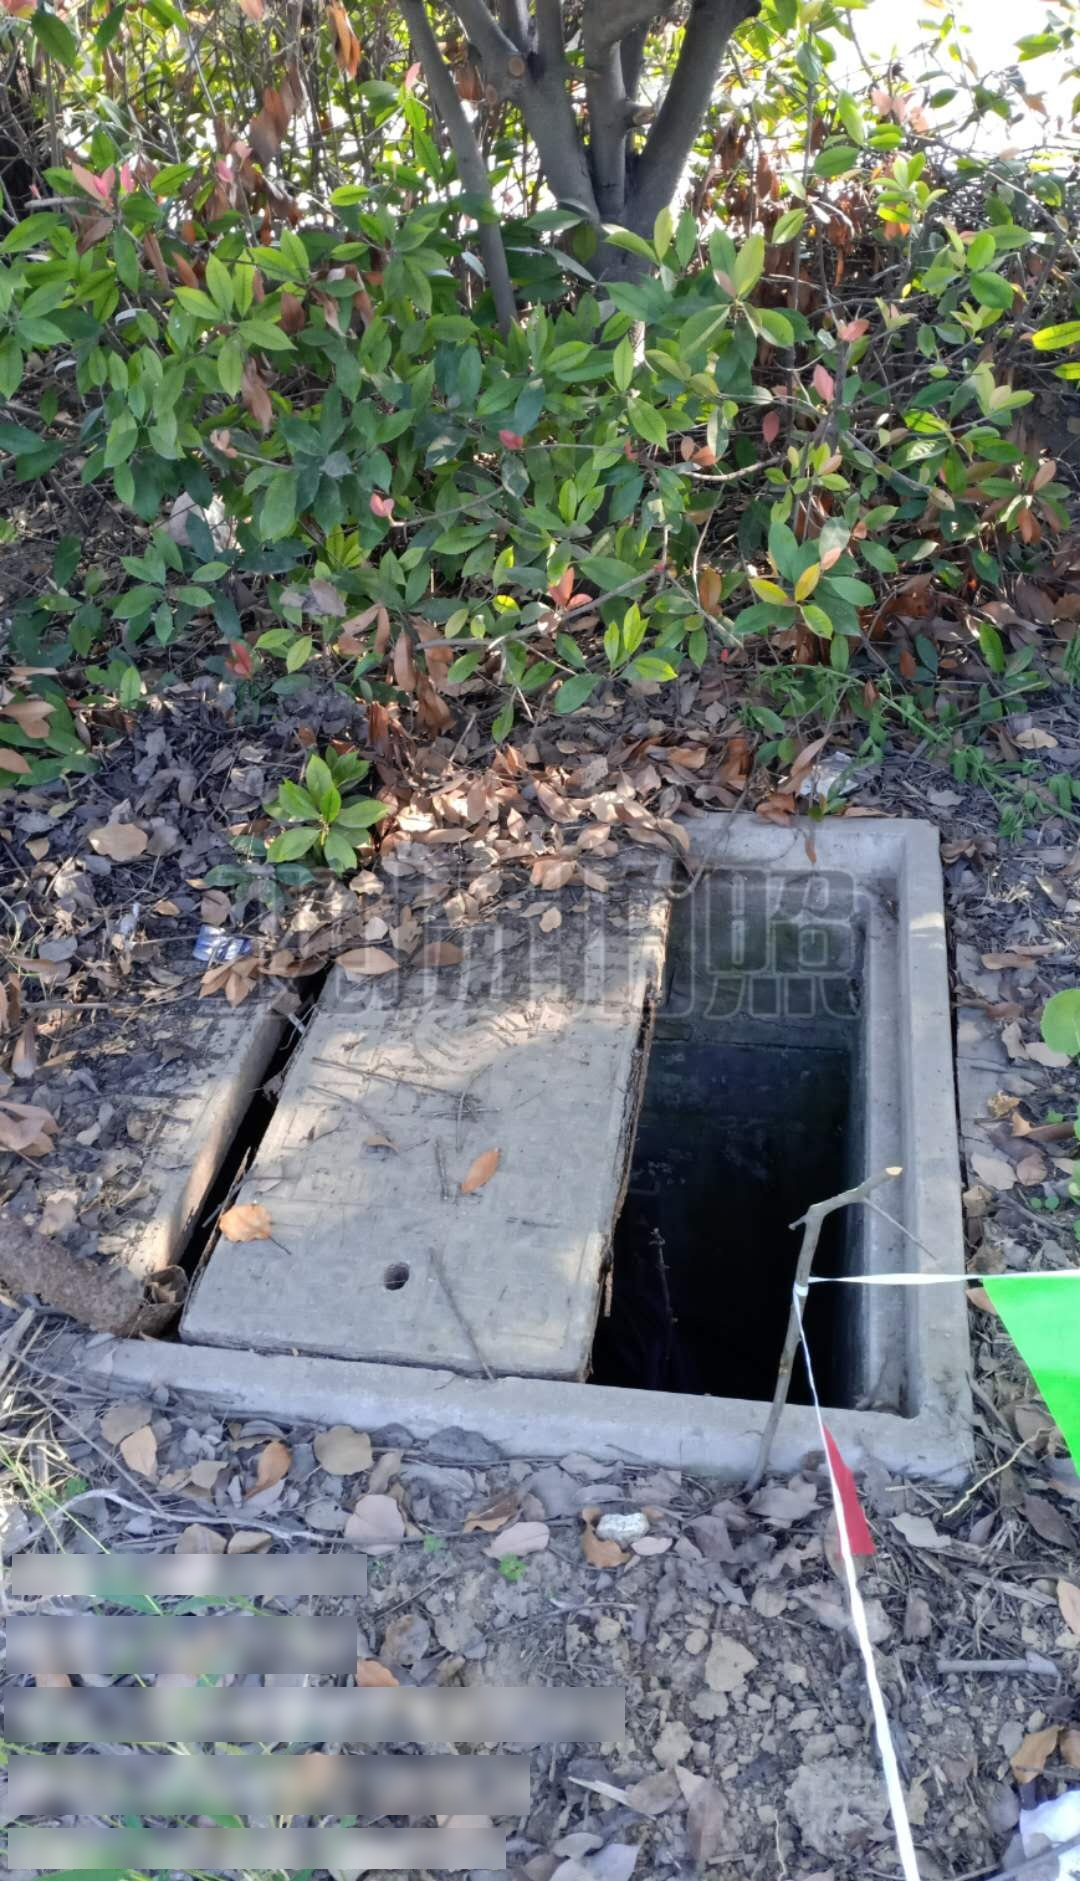lose: (10, 776, 979, 1481)
